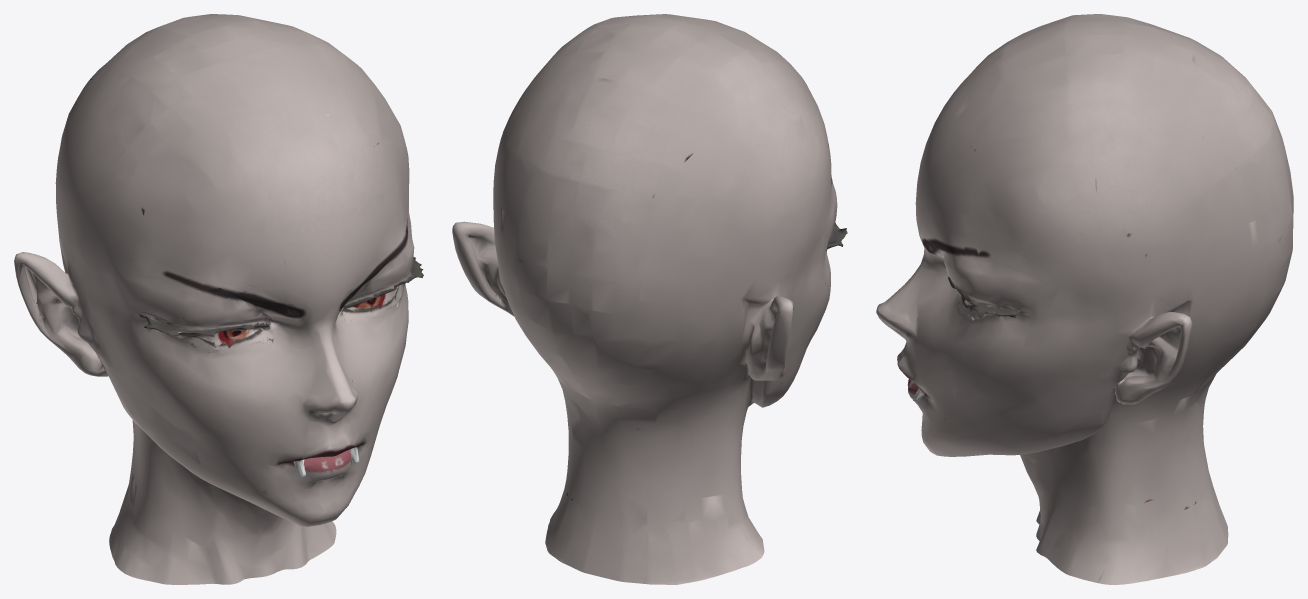
Rendered from vampwarrior_head_conquest.glb.
The picture shows the model from 3 angles, left to right: view 1: azimuth 30°, elevation 25°; view 2: azimuth 150°, elevation 25°; view 3: azimuth 270°, elevation 25°; orthographic projection. The views are drawn at different scales.
Parts seen in each view (by area): view 1: vampwarrior_head_conquest; view 2: vampwarrior_head_conquest; view 3: vampwarrior_head_conquest.
Part boxes in pixels (box(x1,y1,x2,y2)): vampwarrior_head_conquest: box(14, 14, 423, 584); vampwarrior_head_conquest: box(452, 14, 847, 584); vampwarrior_head_conquest: box(876, 14, 1293, 584).
Size of the model in its own units: 0.6184 by 0.8701 by 0.6572.
1 material, 1 textured.
